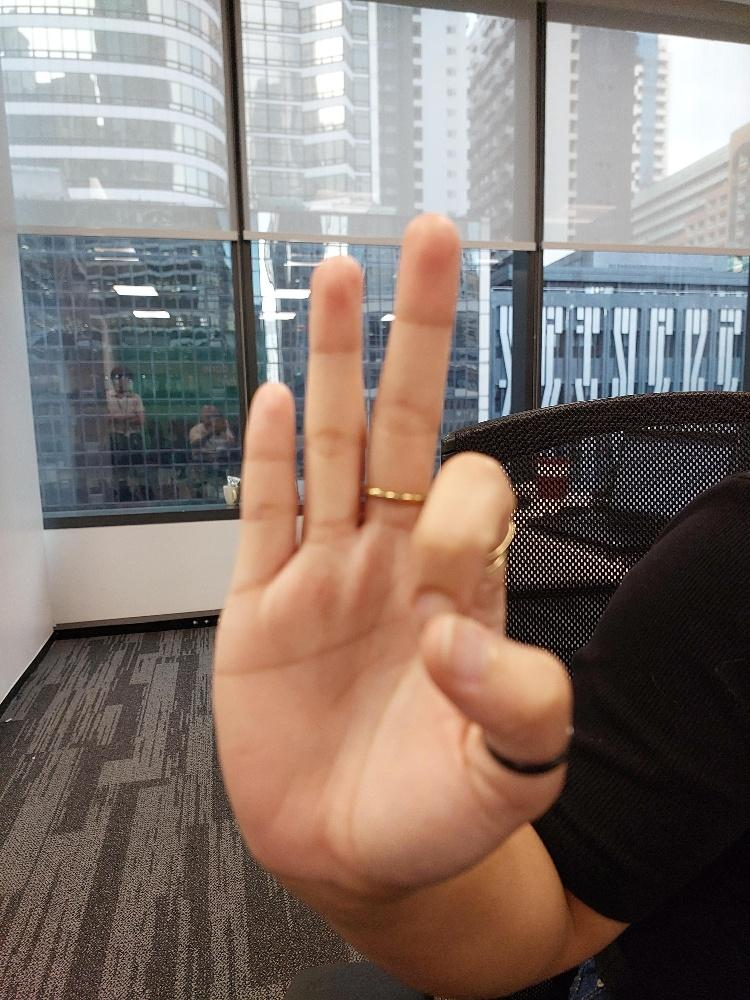f: (208, 210, 576, 910)
